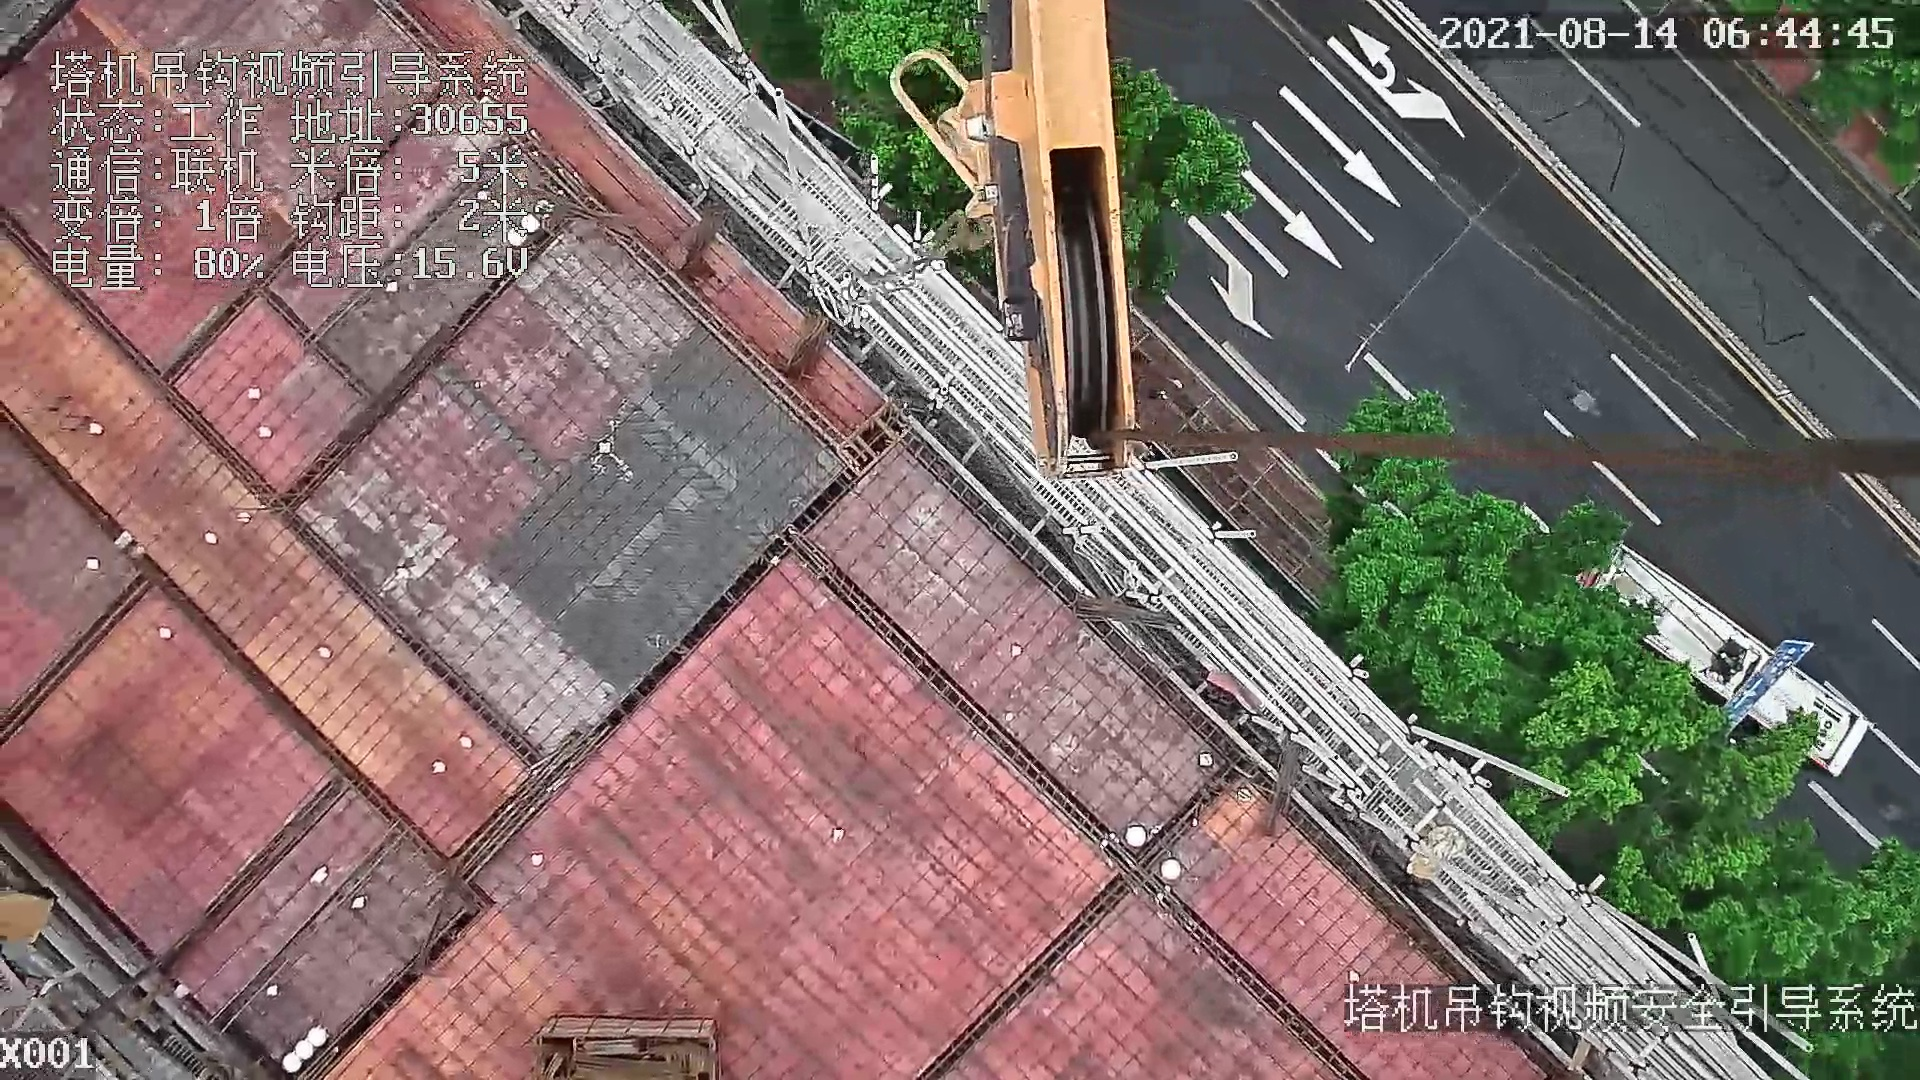hook: (878, 1, 1145, 487)
